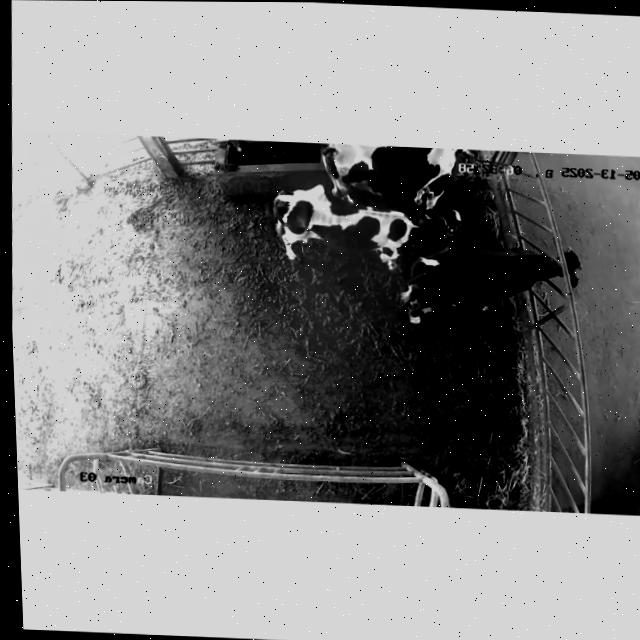stand: (267, 183, 462, 269), (322, 142, 474, 209)
